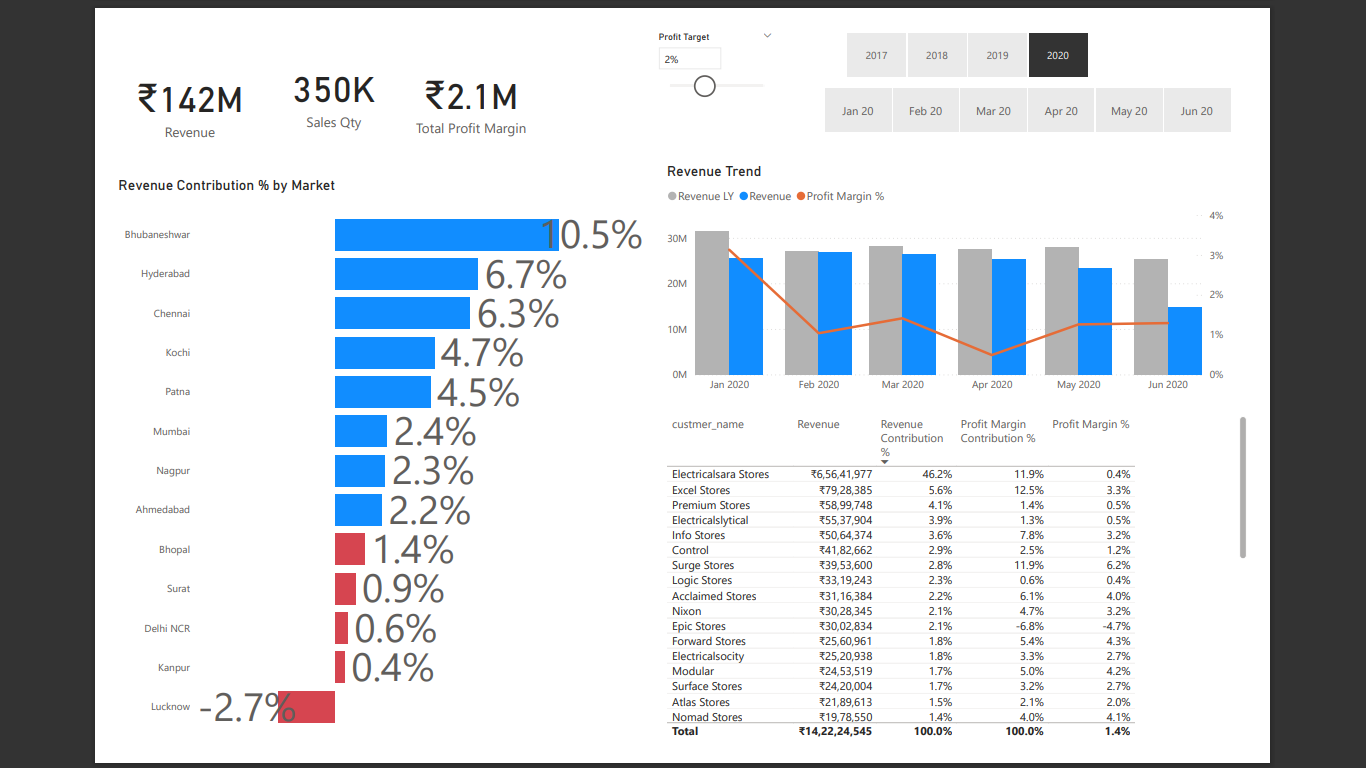

The page's visual inventory and layout, read from the dashboard file:
{"tool":"powerbi","page":{"name":"Profit Analysis","canvas":[1350,850],"ordinal":1},"visuals":[{"type":"card","fields":{"Values":["BaseMeasures (2).Revenue"]},"box":[0,0,179.6,184.8],"z":0},{"type":"card","fields":{"Values":["BaseMeasures (2).Sales Qty"]},"box":[179.6,0,164.1,193],"z":1000},{"type":"barChart","title":"Profit % by market","fields":{"Y":["BaseMeasures (2).Profit Margin %"],"Category":["sales markets.markets_name"]},"box":[464.5,184.8,230.2,664.8],"z":2000},{"type":"barChart","title":"Profit Contribution % by Market","fields":{"Y":["BaseMeasures (2).Profit Margin Contribution %"],"Category":["sales markets.markets_name"]},"box":[221.9,185.8,208.5,659.6],"z":3000},{"type":"slicer","fields":{"Values":["sales date.year"]},"box":[483.2,0,335.5,66.5],"z":4000},{"type":"slicer","fields":{"Values":["sales date.cy_date"]},"box":[818.6,0,531.7,66.5],"z":5000},{"type":"tableEx","title":"Top 5 Customers","fields":{"Values":["sales customers.custmer_name","BaseMeasures (2).Revenue","BaseMeasures (2).Revenue Contribution %","BaseMeasures (2).Profit Margin Contribution %","BaseMeasures (2).Profit Margin %"]},"box":[701.9,454.2,648.3,395.4],"z":6000},{"type":"lineChart","title":"Revenue Trend","fields":{"Y":["BaseMeasures (2).Revenue"],"Category":["sales date.cy_date"]},"box":[701.9,104.3,621.4,338.6],"z":7000},{"type":"card","fields":{"Values":["BaseMeasures (2).Total Profit Margin"]},"box":[349.9,0,161,176.5],"z":8000},{"type":"barChart","title":"Revenue Contribution % by Market","fields":{"Y":["BaseMeasures (2).Revenue Contribution %"],"Category":["sales markets.markets_name"]},"box":[0,185.8,219.9,654.5],"z":9000}]}

Visuals, with their boxes on the page's 1350x850 design canvas (x1, y1, x2, y2). These are canvas units, not pixel positions in the 1366x768 screenshot, which may show the page scaled, cropped or inside an application window:
card - BaseMeasures (2).Revenue: (left=0, top=0, right=180, bottom=185)
card - BaseMeasures (2).Sales Qty: (left=180, top=0, right=344, bottom=193)
"Profit % by market" barChart: (left=464, top=185, right=695, bottom=850)
"Profit Contribution % by Market" barChart: (left=222, top=186, right=430, bottom=845)
slicer - sales date.year: (left=483, top=0, right=819, bottom=66)
slicer - sales date.cy_date: (left=819, top=0, right=1350, bottom=66)
"Top 5 Customers" tableEx: (left=702, top=454, right=1350, bottom=850)
"Revenue Trend" lineChart: (left=702, top=104, right=1323, bottom=443)
card - BaseMeasures (2).Total Profit Margin: (left=350, top=0, right=511, bottom=176)
"Revenue Contribution % by Market" barChart: (left=0, top=186, right=220, bottom=840)
